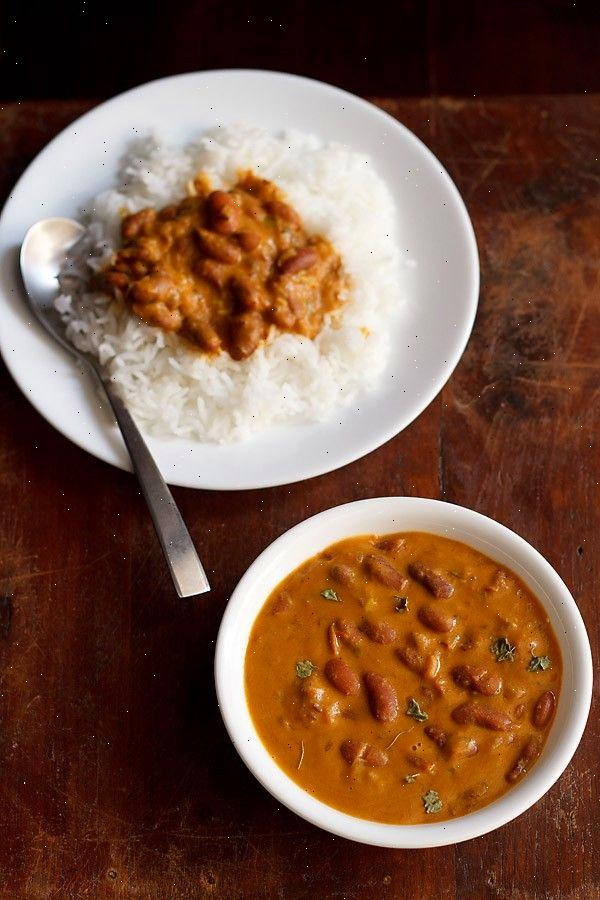rajma: (278, 528, 600, 815)
